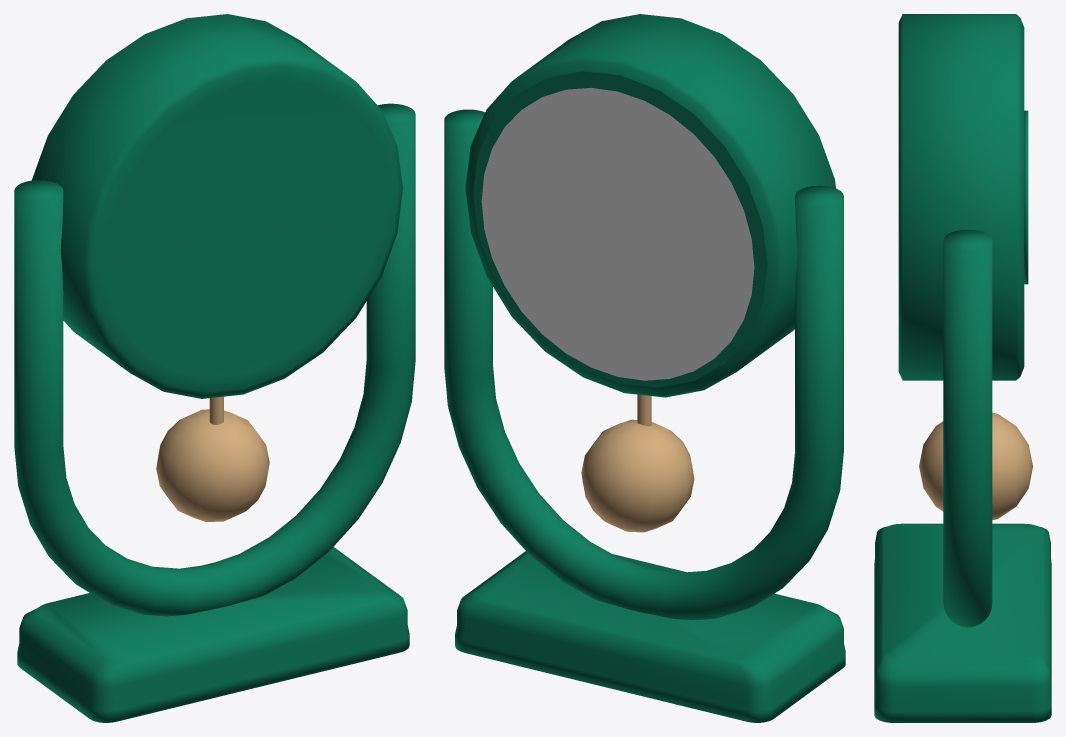
Rendered from pendulum_clock.glb.
3 renders of one model, left to right at view 1: azimuth 30°, elevation 25°; view 2: azimuth 150°, elevation 25°; view 3: azimuth 270°, elevation 25°, orthographic.
Parts seen in each view (by area): view 1: ClockFace, Arms, Base, PendulumBob; view 2: ImageMesh, Arms, ClockFace, Base, PendulumBob; view 3: ClockFace, Base, Arms, PendulumBob.
Boxes of the visible parts, x1,y1,x2,y2 form: ClockFace: [31, 14, 402, 398]; Arms: [14, 103, 415, 616]; Base: [17, 547, 409, 722]; PendulumBob: [156, 409, 269, 521]; ImageMesh: [481, 87, 754, 380]; Arms: [444, 109, 843, 620]; ClockFace: [465, 14, 835, 397]; Base: [455, 551, 845, 722]; PendulumBob: [581, 419, 694, 532]; ClockFace: [898, 14, 1028, 380]; Base: [874, 523, 1051, 722]; Arms: [943, 229, 992, 627]; PendulumBob: [919, 412, 1032, 519].
Size of the model in its own units: 56.42 by 84.27 by 22.04.
